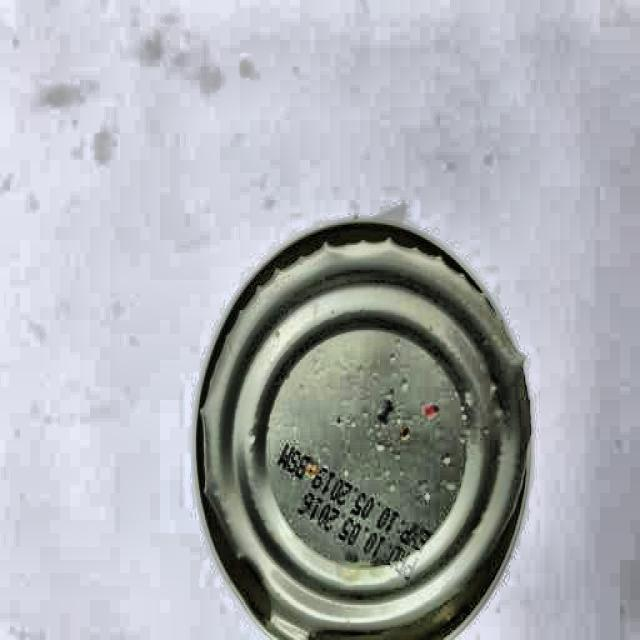metal: (193, 215, 535, 640)
